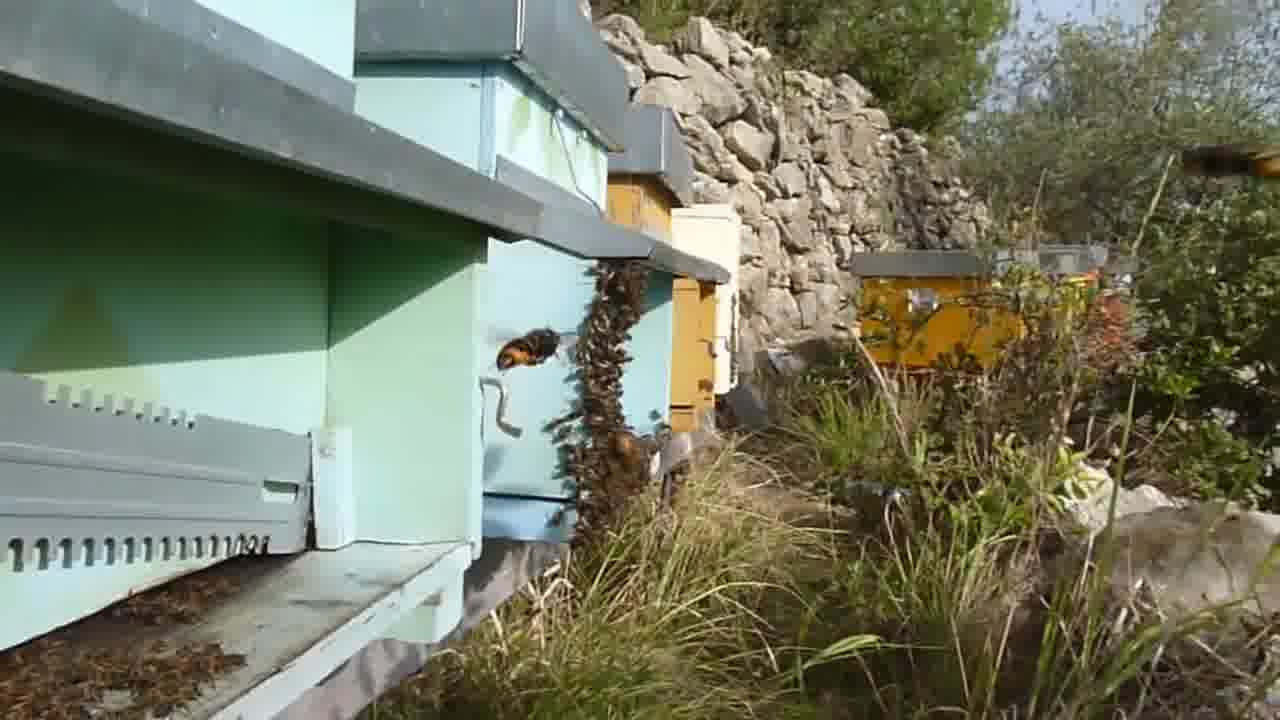bee: (1, 636, 221, 717), (546, 410, 654, 510), (112, 573, 228, 620), (567, 337, 636, 412), (580, 262, 649, 330)
hornet: (490, 331, 565, 372)
